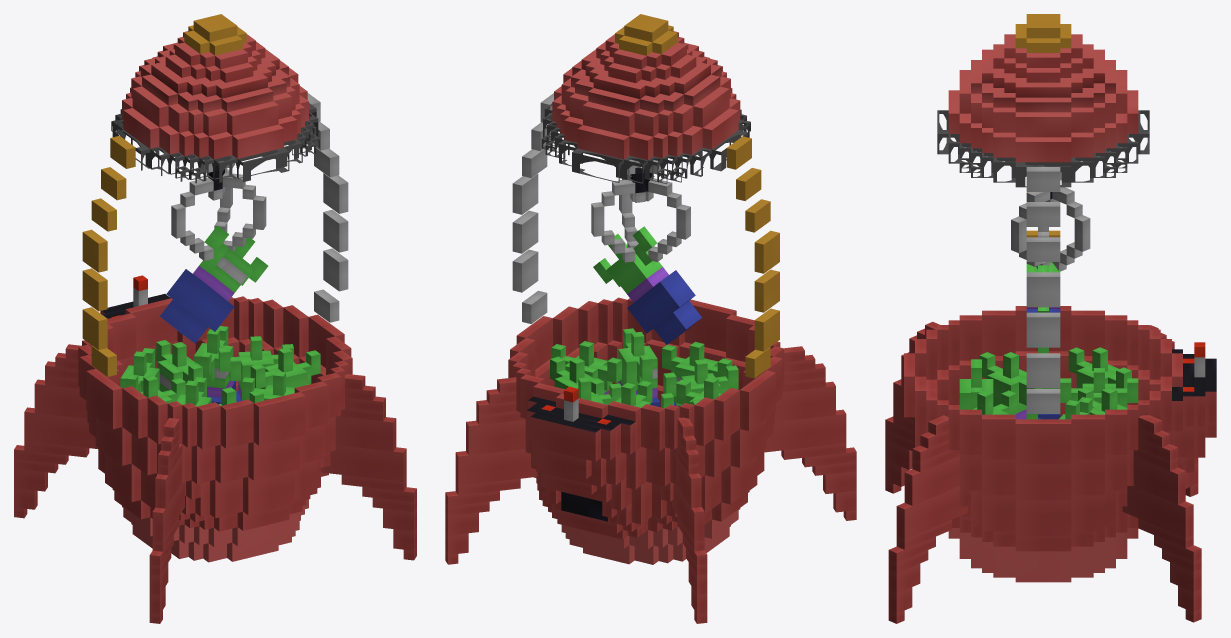
The model's file is CubikModel.obj.
The picture shows the model from 3 angles, left to right: view 1: azimuth 30°, elevation 25°; view 2: azimuth 150°, elevation 25°; view 3: azimuth 270°, elevation 25°; orthographic projection. The views are drawn at different scales.
Parts seen in each view (by area): view 1: Element #458, Element #237, Element #434, Element #601, Element #459, Element #263, Element #300, Element #234, Element #236, Element #435, Element #238, Element #30 (+55 smaller); view 2: Element #391, Element #422, Element #446, Element #601, Element #447, Element #423, Element #234, Element #237, Element #25, Element #24, Element #287, Element #262 (+59 smaller); view 3: Element #235, Element #446, Element #284, Element #458, Element #317, Element #459, Element #447, Element #244, Element #245, Element #240, Element #6, Element #15 (+69 smaller).
Part boxes in pixels (x1,y1,x2,y2): Element #458: (321, 445, 406, 481); Element #237: (253, 392, 305, 445); Element #434: (24, 407, 98, 448); Element #601: (166, 269, 234, 331); Element #459: (335, 416, 396, 451); Element #263: (248, 436, 299, 480); Element #300: (243, 471, 294, 515); Element #234: (86, 369, 122, 429); Element #236: (125, 298, 177, 350); Element #435: (34, 379, 87, 418); Element #238: (220, 399, 253, 448); Element #30: (227, 101, 278, 135); Element #391: (530, 413, 600, 461); Element #422: (764, 409, 846, 452); Element #446: (455, 449, 537, 485); Element #601: (627, 270, 695, 333); Element #447: (466, 419, 525, 455); Element #423: (775, 381, 835, 421); Element #234: (740, 370, 775, 430); Element #237: (685, 299, 736, 351); Element #25: (577, 125, 629, 159); Element #24: (583, 101, 634, 135); Element #287: (721, 455, 757, 504); Element #262: (730, 418, 766, 467); Element #235: (1015, 419, 1071, 464); Element #446: (1122, 486, 1193, 538); Element #284: (1015, 464, 1071, 500); Element #458: (896, 486, 967, 539); Element #317: (1015, 500, 1071, 535); Element #459: (904, 456, 959, 505); Element #447: (1133, 456, 1185, 504); Element #244: (1071, 414, 1104, 459); Element #245: (982, 414, 1015, 459); Element #240: (982, 310, 1015, 355); Element #6: (1015, 112, 1071, 137); Element #15: (1015, 137, 1071, 162).
Size of the model in its own units: 14.51 by 26.5 by 14.83.
1 material, 1 textured.
